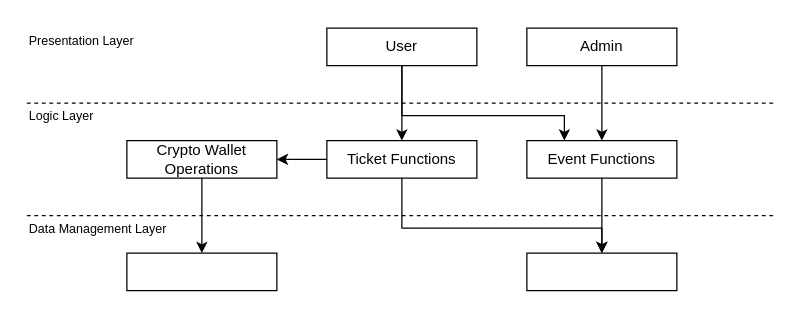
Some shapes in this 800 by 313 pixel diagram are drawn without their labels. The box of each missing label's shape, as (x1, y1, x2, y2) in pixels:
Event Data: (526, 252, 677, 291)
Wallet Data: (126, 252, 277, 291)
